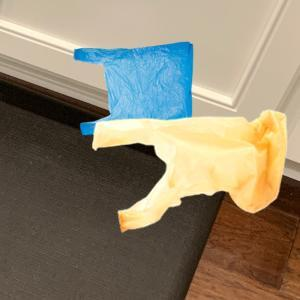plastic_bag: (89, 107, 288, 232), (67, 40, 199, 142)
